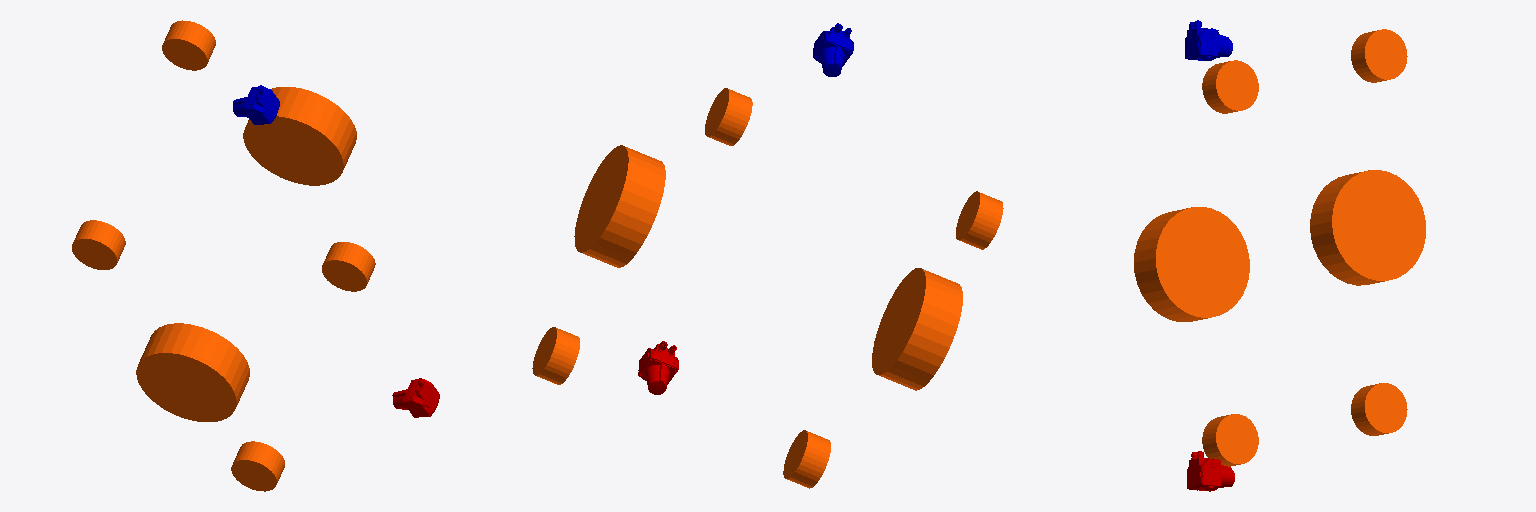
URDF robot description (tway):
<?xml version="1.0" ?>
<!-- =================================================================================== -->
<!-- |    This document was autogenerated by xacro from tway.urdf.xacro                | -->
<!-- |    EDITING THIS FILE BY HAND IS NOT RECOMMENDED                                 | -->
<!-- =================================================================================== -->
<robot name="tway" xmlns:xacro="http://ros.org/wiki/xacro">
  <!-- Init colour -->
  <material name="black">
    <color rgba="0.0 0.0 0.0 1.0"/>
  </material>
  <material name="dark">
    <color rgba="0.3 0.3 0.3 1.0"/>
  </material>
  <material name="light_black">
    <color rgba="0.4 0.4 0.4 1.0"/>
  </material>
  <material name="blue">
    <color rgba="0.0 0.0 0.8 1.0"/>
  </material>
  <material name="green">
    <color rgba="0.0 0.8 0.0 1.0"/>
  </material>
  <material name="grey">
    <color rgba="0.5 0.5 0.5 1.0"/>
  </material>
  <material name="orange">
    <color rgba="1.0 0.423529411765 0.0392156862745 1.0"/>
  </material>
  <material name="brown">
    <color rgba="0.870588235294 0.811764705882 0.764705882353 1.0"/>
  </material>
  <material name="red">
    <color rgba="0.8 0.0 0.0 1.0"/>
  </material>
  <material name="white">
    <color rgba="1.0 1.0 1.0 1.0"/>
  </material>
  <!-- ==============================================================================-->
  <gazebo reference="base_link">
    <material>Gazebo/blue</material>
  </gazebo>
  <gazebo reference="wheel_left_link">
    <mu1>0.1</mu1>
    <!-- // Coefficient of friction in the range of 0..1    //-->
    <mu2>0.1</mu2>
    <!-- // Second Coefficient of friction in the range of 0..1    //-->
    <kp>500000.0e4</kp>
    <!-- // Dynamically "stiffness"-equivalent coefficient for contract joints    //-->
    <kd>10.0e2</kd>
    <!-- // Dynamically "damping"-equivalent coefficient for contact joints //-->
    <minDepth>0.001</minDepth>
    <!-- // Minimum allowable depth before contact correction impulse is applied //-->
    <maxVel>1</maxVel>
    <!-- // Maximum contact correction velocity truncation term  //-->
    <fdir1>1 0 0</fdir1>
    <!-- // 3-tuple specifying direction of mu1 in the collision local reference frame    //-->
    <material>Gazebo/FlatBlack</material>
  </gazebo>
  <!-- ==============================================================================-->
  <gazebo reference="wheel_right_link">
    <mu1>0.1</mu1>
    <mu2>0.1</mu2>
    <kp>500000.0e4</kp>
    <kd>10.0e2</kd>
    <minDepth>0.001</minDepth>
    <maxVel>1</maxVel>
    <fdir1>1 0 0</fdir1>
    <material>Gazebo/FlatBlack</material>
  </gazebo>
  <!-- ==============================================================================-->
  <gazebo reference="caster_back_right_link">
    <material>Gazebo/Grey</material>
  </gazebo>
  <!-- ==============================================================================-->
  <gazebo reference="caster_back_left_link">
    <material>Gazebo/Grey</material>
  </gazebo>
  <!-- ==============================================================================-->
  <gazebo reference="caster_front_left_link">
    <material>Gazebo/Grey</material>
  </gazebo>
  <!-- ==============================================================================-->
  <gazebo reference="caster_front_right_link">
    <material>Gazebo/Grey</material>
  </gazebo>
  <!-- ==============================================================================-->
  <gazebo reference="imu_link">
    <sensor name="imu" type="imu">
      <always_on>true</always_on>
      <visualize>false</visualize>
    </sensor>
    <material>Gazebo/Grey</material>
  </gazebo>
  <!-- ==============================================================================-->
  <gazebo>
    <plugin filename="libgazebo_ros_diff_drive.so" name="tway_controller">
      <!-- //Library file   //-->
      <commandTopic>cmd_vel</commandTopic>
      <odometryTopic>odom</odometryTopic>
      <odometryFrame>odom</odometryFrame>
      <robotBaseFrame>base_footprint</robotBaseFrame>
      <publishWheelTF>false</publishWheelTF>
      <publishTf>true</publishTf>
      <publishWheelJointState>true</publishWheelJointState>
      <legacyMode>false</legacyMode>
      <updateRate>30</updateRate>
      <leftJoint>wheel_left_joint</leftJoint>
      <rightJoint>wheel_right_joint</rightJoint>
      <wheelSeparation>0.64</wheelSeparation>
      <!-- // Distance between 2 active wheels    //-->
      <wheelDiameter>0.22</wheelDiameter>
      <!-- // Diameter of 2 active wheels   //-->
      <wheelAcceleration>10</wheelAcceleration>
      <wheelTorque>5000</wheelTorque>
      <!-- // Wheel Torque   //-->
      <rosDebugLevel>na</rosDebugLevel>
    </plugin>
  </gazebo>
  <!-- ==============================================================================-->
  <gazebo>
    <plugin filename="libgazebo_ros_imu.so" name="imu_plugin">
      <alwaysOn>true</alwaysOn>
      <bodyName>imu_link</bodyName>
      <topicName>imu</topicName>
      <serviceName>imu_service</serviceName>
      <gaussianNoise>0.0</gaussianNoise>
      <updateRate>200</updateRate>
      <imu>
        <noise>
          <type>gaussian</type>
          <rate>
            <mean>0.0</mean>
            <stddev>2e-4</stddev>
            <bias_mean>0.0000075</bias_mean>
            <bias_stddev>0.0000008</bias_stddev>
          </rate>
          <accel>
            <mean>0.0</mean>
            <stddev>1.7e-2</stddev>
            <bias_mean>0.1</bias_mean>
            <bias_stddev>0.001</bias_stddev>
          </accel>
        </noise>
      </imu>
    </plugin>
  </gazebo>
  <!-- ==============================================================================-->
  <gazebo reference="base_scan">
    <material>Gazebo/Red</material>
    <sensor name="lds_lfcd_sensor" type="ray">
      <pose>0 0 0 0 0 0</pose>
      <!-- //a position and orientation with respect to the specified frame //-->
      <visualize>true</visualize>
      <!-- //show laser lines or not //-->
      <ray>
        <scan>
          <horizontal>
            <samples>240</samples>
            <!-- //the number of simulated rays to generate per complete laser sweep cycle//-->
            <resolution>1</resolution>
            <!-- //This number is multiplied by samples to determine the number of range data points returned. -->
            <!-- If the resolution is less than one, range data is interpolated. -->
            <!--If resolution is greater than one, range data is averaged//-->
            <min_angle>-1.5</min_angle>
            <max_angle>1.5</max_angle>
          </horizontal>
        </scan>
        <range>
          <!-- //Range of LiDAR//-->
          <min>0.120</min>
          <max>10.5</max>
          <resolution>0.015</resolution>
        </range>
        <noise>
          <type>gaussian</type>
          <mean>0.0</mean>
          <stddev>0.01</stddev>
        </noise>
      </ray>
      <plugin filename="libgazebo_ros_laser.so" name="gazebo_ros_lds_lfcd_controller">
        <topicName>scan</topicName>
        <frameName>base_scan</frameName>
        <update_rate>1800</update_rate>
      </plugin>
    </sensor>
  </gazebo>
  <!-- ==============================================================================-->
  <!-- ==============================================================================-->
  <gazebo reference="camera_rgb_frame">
    <sensor name="realsense_R200" type="depth">
      <always_on>true</always_on>
      <visualize>false</visualize>
      <camera>
        <horizontal_fov>1.3439</horizontal_fov>
        <image>
          <width>1920</width>
          <height>1080</height>
          <format>R8G8B8</format>
        </image>
        <depth_camera/>
        <clip>
          <near>0.03</near>
          <far>100</far>
        </clip>
      </camera>
      <plugin filename="libgazebo_ros_openni_kinect.so" name="camera_controller">
        <baseline>0.2</baseline>
        <alwaysOn>true</alwaysOn>
        <updateRate>30.0</updateRate>
        <cameraName>camera</cameraName>
        <frameName>camera_rgb_optical_frame</frameName>
        <imageTopicName>rgb/image_raw</imageTopicName>
        <depthImageTopicName>depth/image_raw</depthImageTopicName>
        <pointCloudTopicName>depth/points</pointCloudTopicName>
        <cameraInfoTopicName>rgb/camera_info</cameraInfoTopicName>
        <depthImageCameraInfoTopicName>depth/camera_info</depthImageCameraInfoTopicName>
        <pointCloudCutoff>0.4</pointCloudCutoff>
        <hackBaseline>0.07</hackBaseline>
        <distortionK1>0.0</distortionK1>
        <distortionK2>0.0</distortionK2>
        <distortionK3>0.0</distortionK3>
        <distortionT1>0.0</distortionT1>
        <distortionT2>0.0</distortionT2>
        <CxPrime>0.0</CxPrime>
        <Cx>0.0</Cx>
        <Cy>0.0</Cy>
        <focalLength>0</focalLength>
        <hackBaseline>0</hackBaseline>
      </plugin>
    </sensor>
  </gazebo>
  <!-- ==============================================================================-->
  <!-- ================================================================-->
  <!-- ================================================================-->
  <!--First, we have to Describe Tway Base (body) and its foot print -->
  <link name="base_footprint"/>
  <joint name="base_joint" type="fixed">
    <parent link="base_footprint"/>
    <child link="base_link"/>
    <origin rpy="1 1 0" xyz="0 0 0.0"/>
  </joint>
  <!-- ================================================================-->
  <link name="base_link">
    <visual>
      <origin rpy="1.57 0 0" xyz="-0.52 0.82 -0.40"/>
      <!-- body position only -->
      <geometry>
        <mesh filename="package://tway_description/meshes/bases/tway_base.stl" scale="0.001 0.001 0.001"/>
      </geometry>
      <material name="grey"/>
    </visual>
    <collision>
      <origin rpy="1 1 0" xyz="0 0 0"/>
      <!-- no effect -->
      <geometry>
        <box size="0.8 1.0 0.38"/>
      </geometry>
    </collision>
    <inertial>
      <origin rpy="0 0 0" xyz="0 0 0"/>
      <mass value="300e+00"/>
      <inertia ixx="19.61" ixy="-4.7576583e-05" ixz="1.1160499e-04" iyy="28.61" iyz="-3.5422299e-06" izz="41"/>
    </inertial>
  </link>
  <!-- ================================================================-->
  <!-- //////////////////////Wheel part. Tway has 2 Wheels /////////////////////////-->
  <!--Second, We describe Left and Right Wheel  -->
  <joint name="wheel_left_joint" type="continuous">
    <parent link="base_link"/>
    <child link="wheel_left_link"/>
    <origin rpy="-1.57 0 0" xyz="0.0 0.32 -0.1"/>
    <axis xyz="0 0 1"/>
  </joint>
  <link name="wheel_left_link">
    <visual>
      <origin rpy="0 0 0" xyz="0 0 0"/>
      <geometry>
        <!--<mesh filename="package://tway_description/meshes/wheels/left_tire.stl" scale="0.001 0.001 0.001"/> -->
        <cylinder length="0.08" radius="0.11"/>
      </geometry>
      <material name="orange"/>
    </visual>
    <collision>
      <origin rpy="0 0 0" xyz="0 0.0 0"/>
      <geometry>
        <cylinder length="0.08" radius="0.11"/>
      </geometry>
    </collision>
    <inertial>
      <origin xyz="0 0 0"/>
      <mass value="21"/>
      <inertia ixx="0.154" ixy="-4.2369783e-8" ixz="-5.9381719e-07" iyy="0.056" iyz="-1.4400107e-8" izz="0.132"/>
    </inertial>
  </link>
  <!-- ================================================================-->
  <joint name="wheel_right_joint" type="continuous">
    <parent link="base_link"/>
    <child link="wheel_right_link"/>
    <origin rpy="-1.57 0 0" xyz="0.0 -0.32 -0.1"/>
    <axis xyz="0 0 1"/>
  </joint>
  <link name="wheel_right_link">
    <visual>
      <origin rpy="0 0 0" xyz="0 0 0"/>
      <geometry>
        <!--<mesh filename="package://tway_description/meshes/wheels/main_right_wheel.stl" scale="0.001 0.001 0.001"/>  -->
        <cylinder length="0.08" radius="0.11"/>
      </geometry>
      <material name="orange"/>
    </visual>
    <collision>
      <origin rpy="0 0 0" xyz="0 0.0 0"/>
      <geometry>
        <cylinder length="0.08" radius="0.11"/>
      </geometry>
    </collision>
    <inertial>
      <origin xyz="0 0 0"/>
      <mass value="21"/>
      <inertia ixx="0.154" ixy="-4.2369783e-8" ixz="-5.9381719e-07" iyy="0.056" iyz="-1.4400107e-8" izz="0.132"/>
    </inertial>
  </link>
  <!-- //////////////////////CARTER part. Tway has 4 CARTERS /////////////////////////-->
  <!-- ================================================================-->
  <joint name="caster_back_right_joint" type="fixed">
    <parent link="base_link"/>
    <child link="caster_back_right_link"/>
    <origin rpy="1.57 0 0" xyz="0.35 0.27 -0.158"/>
    <axis xyz="0 0 1"/>
  </joint>
  <link name="caster_back_right_link">
    <visual>
      <origin rpy="0 0 0" xyz="0 0 0"/>
      <geometry>
        <cylinder length="0.05" radius="0.05"/>
      </geometry>
      <material name="orange"/>
    </visual>
    <collision>
      <origin rpy="0 0 0" xyz="0 0.0 0"/>
      <geometry>
        <cylinder length="0.05" radius="0.05"/>
      </geometry>
      <material name="red"/>
    </collision>
    <inertial>
      <origin xyz="0 0 0"/>
      <mass value="1"/>
      <inertia ixx="0.1" ixy="0.0" ixz="0.0" iyy="0.1" iyz="0.0" izz="0.1"/>
    </inertial>
  </link>
  <!-- ================================================================-->
  <joint name="caster_back_left_joint" type="fixed">
    <parent link="base_link"/>
    <child link="caster_back_left_link"/>
    <origin rpy="1.57 0 0" xyz="0.35 -0.27 -0.158 "/>
    <axis xyz="0 0 1"/>
  </joint>
  <link name="caster_back_left_link">
    <visual>
      <origin rpy="0 0 0" xyz="0 0 0"/>
      <geometry>
        <cylinder length="0.05" radius="0.05"/>
      </geometry>
      <material name="orange"/>
    </visual>
    <collision>
      <origin rpy="0 0 0" xyz="0 0.0 0"/>
      <geometry>
        <cylinder length="0.05" radius="0.05"/>
      </geometry>
      <material name="blue"/>
    </collision>
    <inertial>
      <origin xyz="0 0 0"/>
      <mass value="1"/>
      <inertia ixx="0.1" ixy="0.0" ixz="0.0" iyy="0.1" iyz="0.0" izz="0.1"/>
    </inertial>
  </link>
  <!-- ================================================================-->
  <joint name="caster_front_right_joint" type="fixed">
    <parent link="base_link"/>
    <child link="caster_front_right_link"/>
    <origin rpy="1.57 0 0" xyz="-0.35 0.27 -0.158"/>
    <axis xyz="0 0 1"/>
  </joint>
  <link name="caster_front_right_link">
    <visual>
      <origin rpy="0 0 0" xyz="0 0 0"/>
      <geometry>
        <cylinder length="0.05" radius="0.05"/>
      </geometry>
      <material name="orange"/>
    </visual>
    <collision>
      <origin rpy="0 0 0" xyz="0 0.0 0"/>
      <geometry>
        <cylinder length="0.05" radius="0.05"/>
      </geometry>
      <material name="red"/>
    </collision>
    <inertial>
      <origin xyz="0 0 0"/>
      <mass value="1"/>
      <inertia ixx="0.1" ixy="0.0" ixz="0.0" iyy="0.1" iyz="0.0" izz="0.1"/>
    </inertial>
  </link>
  <!-- ================================================================-->
  <joint name="caster_front_left_joint" type="fixed">
    <parent link="base_link"/>
    <child link="caster_front_left_link"/>
    <origin rpy="1.57 0 0" xyz="-0.35 -0.27 -0.158"/>
    <axis xyz="0 0 1"/>
  </joint>
  <link name="caster_front_left_link">
    <visual>
      <origin rpy="0 0 0" xyz="0 0 0"/>
      <geometry>
        <cylinder length="0.05" radius="0.05"/>
      </geometry>
      <material name="orange"/>
    </visual>
    <collision>
      <origin rpy="0 0 0" xyz="0 0.0 0"/>
      <geometry>
        <cylinder length="0.05" radius="0.05"/>
      </geometry>
      <material name="blue"/>
    </collision>
    <inertial>
      <origin xyz="0 0 0"/>
      <mass value="1"/>
      <inertia ixx="0.1" ixy="0.0" ixz="0.0" iyy="0.1" iyz="0.0" izz="0.1"/>
    </inertial>
  </link>
  <!-- ================================================================-->
  <joint name="imu_joint" type="fixed">
    <parent link="base_link"/>
    <child link="imu_link"/>
    <origin rpy="0 0 0" xyz="0.0 0 0.068"/>
  </joint>
  <link name="imu_link"/>
  <!-- ================================================================-->
  <joint name="scan_joint" type="fixed">
    <parent link="base_link"/>
    <child link="base_scan"/>
    <origin rpy="0 0 0" xyz="0.42 -0.035 0.1"/>
  </joint>
  <link name="base_scan">
    <visual>
      <origin rpy="-1.57 0 0" xyz="0 0 0"/>
      <geometry>
        <mesh filename="package://tway_description/meshes/sensors/sick551.stl" scale="0.001 0.001 0.001"/>
      </geometry>
      <material name="red"/>
    </visual>
    <collision>
      <origin rpy="0 0 0" xyz="0 0 0"/>
      <geometry>
        <cylinder length="0.0315" radius="0.055"/>
      </geometry>
    </collision>
    <inertial>
      <mass value="0.114"/>
      <origin xyz="0 0 0"/>
      <inertia ixx="0.001" ixy="0.0" ixz="0.0" iyy="0.001" iyz="0.0" izz="0.001"/>
    </inertial>
  </link>
  <!-- ================================================================-->
  <joint name="scan_joint_back" type="fixed">
    <parent link="base_link"/>
    <child link="base_scan_back"/>
    <origin rpy="0 0 3.1459" xyz="-0.42 0.035 0.15"/>
  </joint>
  <link name="base_scan_back">
    <visual>
      <origin rpy="-1.57 0 3.14" xyz="0 0.0 0.0"/>
      <geometry>
        <mesh filename="package://tway_description/meshes/sensors/sick551.stl" scale="0.001 0.001 0.001"/>
      </geometry>
      <material name="blue"/>
    </visual>
    <collision>
      <origin rpy="0 0 0" xyz="0 0 0"/>
      <geometry>
        <cylinder length="0.0315" radius="0.055"/>
      </geometry>
    </collision>
    <inertial>
      <mass value="0.114"/>
      <origin xyz="0 0 0"/>
      <inertia ixx="0.001" ixy="0.0" ixz="0.0" iyy="0.001" iyz="0.0" izz="0.001"/>
    </inertial>
  </link>
  <!-- ================================================================-->
</robot>

--- Render facts (derived) ---
The picture shows the robot from 3 angles, left to right: view 1: azimuth 30°, elevation 25°; view 2: azimuth 150°, elevation 25°; view 3: azimuth 270°, elevation 25°; orthographic projection.
Robot: tway — 11 links, 10 joints (2 continuous, 8 fixed); root link base_footprint; default pose: all joints at 0.
Links seen in each view (by area): view 1: wheel_right_link, wheel_left_link, caster_front_right_link, caster_front_left_link, caster_back_left_link, caster_back_right_link, base_scan, base_scan_back; view 2: wheel_left_link, wheel_right_link, caster_back_left_link, caster_front_left_link, caster_back_right_link, caster_front_right_link, base_scan, base_scan_back; view 3: wheel_right_link, wheel_left_link, caster_front_left_link, caster_front_right_link, caster_back_right_link, caster_back_left_link, base_scan, base_scan_back.
Boxes of the visible links, <box> form: wheel_right_link: <box>136,323,249,421</box>; wheel_left_link: <box>243,87,356,185</box>; caster_front_right_link: <box>162,20,215,70</box>; caster_front_left_link: <box>72,220,125,269</box>; caster_back_left_link: <box>231,441,284,491</box>; caster_back_right_link: <box>322,242,375,291</box>; base_scan: <box>392,378,439,417</box>; base_scan_back: <box>233,85,279,124</box>; wheel_left_link: <box>574,145,665,267</box>; wheel_right_link: <box>872,268,962,390</box>; caster_back_left_link: <box>783,430,830,488</box>; caster_front_left_link: <box>956,191,1003,249</box>; caster_back_right_link: <box>532,327,579,384</box>; caster_front_right_link: <box>705,88,752,145</box>; base_scan: <box>638,341,678,394</box>; base_scan_back: <box>813,23,853,76</box>; wheel_right_link: <box>1134,207,1249,321</box>; wheel_left_link: <box>1310,170,1425,285</box>; caster_front_left_link: <box>1202,60,1258,113</box>; caster_front_right_link: <box>1351,29,1407,82</box>; caster_back_right_link: <box>1351,383,1407,435</box>; caster_back_left_link: <box>1202,414,1258,466</box>; base_scan: <box>1187,451,1234,491</box>; base_scan_back: <box>1185,20,1232,60</box>.
Size in the robot's own frame: 0.8664 by 0.5742 by 0.9505 metres.
2 mesh visuals loaded from 2 distinct referenced files (1 binary STL); not drawn: 1 (reference not matched to a file when rendering).
